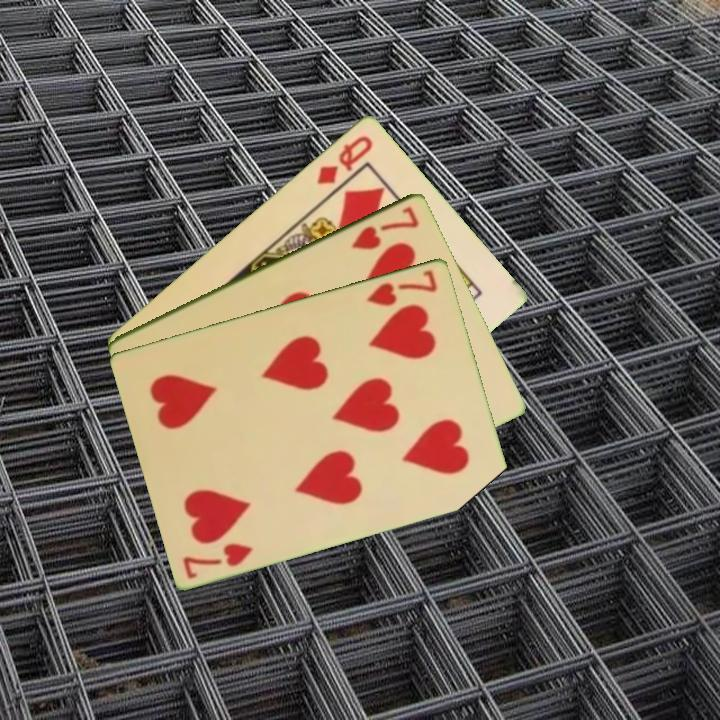7h: (347, 202, 422, 252), (362, 265, 441, 309), (180, 539, 256, 581)
Qd: (313, 131, 376, 187)
